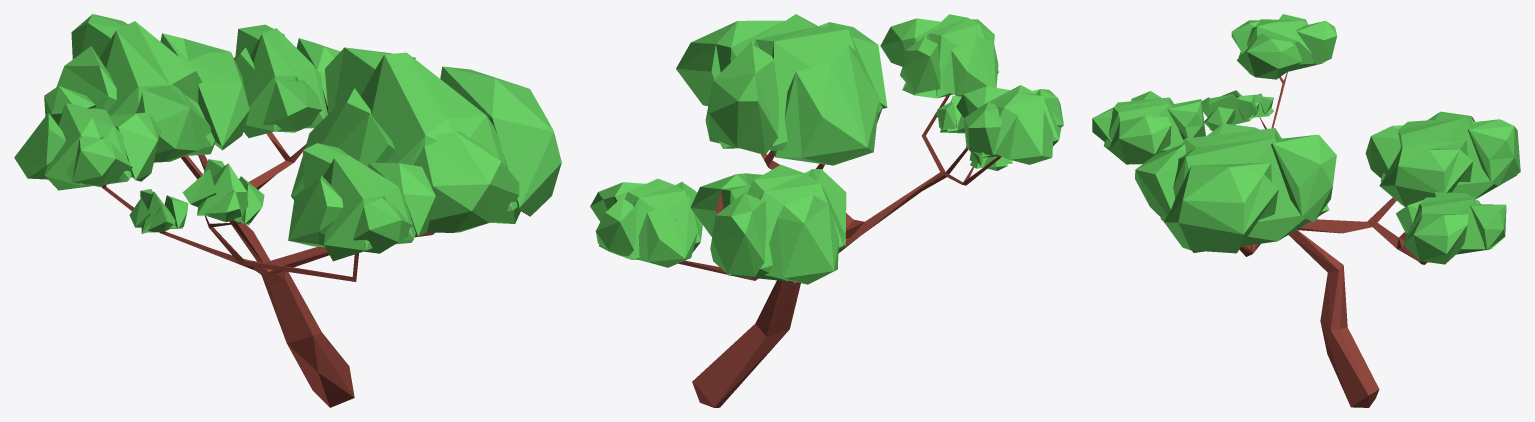
The model's file is mytree2_scaled 0.005.fbx.
3 renders of one model, left to right at view 1: azimuth 30°, elevation 25°; view 2: azimuth 150°, elevation 25°; view 3: azimuth 270°, elevation 25°, orthographic. The views are drawn at different scales.
Visible parts, largest first — view 1: Icosphere.005; view 2: Icosphere.005; view 3: Icosphere.005.
Boxes of the visible parts, x1=… form: Icosphere.005: x1=14, y1=14, x2=561, y2=407; Icosphere.005: x1=590, y1=14, x2=1063, y2=407; Icosphere.005: x1=1092, y1=14, x2=1520, y2=407.
Bounding box in the file's own units: 6.9 × 5.56 × 7.53.
